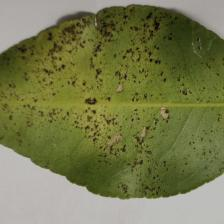canker: (40, 49, 152, 135)
